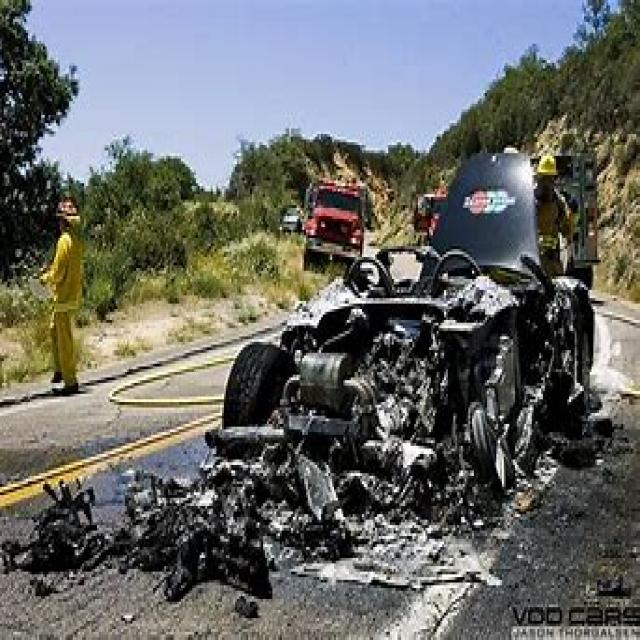Accident: (226, 159, 621, 606)
